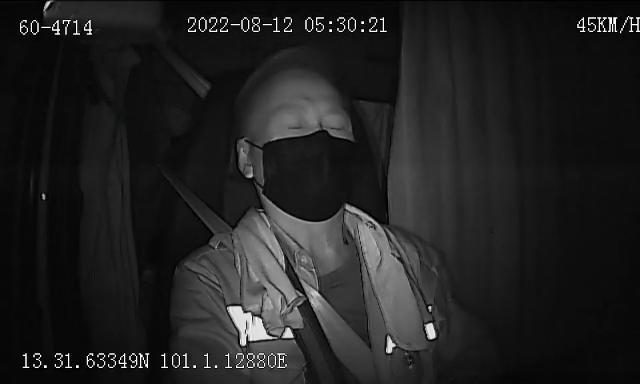Seatbelt: (182, 168, 380, 384)
